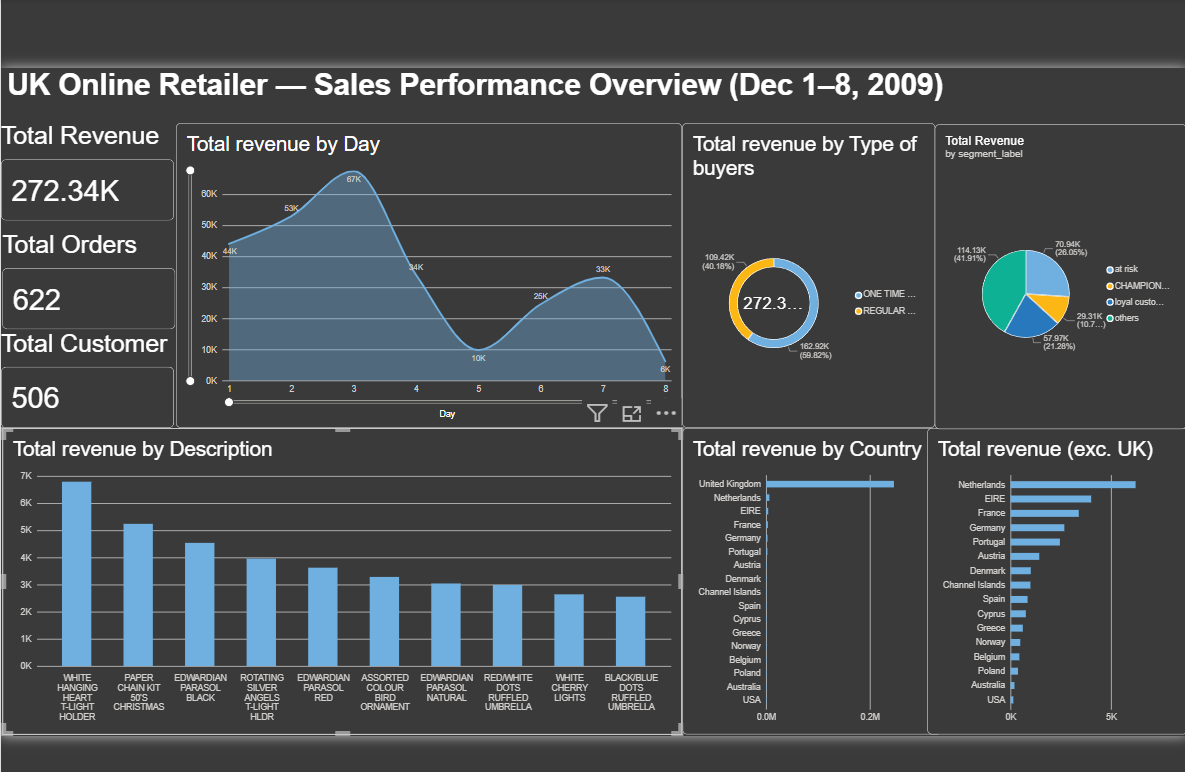

This screenshot's page, from the dashboard's own definition file:
{"tool":"powerbi","page":{"name":"Page 1","canvas":[1920,1080],"ordinal":0},"visuals":[{"type":"cardVisual","title":"Total Revenue","fields":{"Data":["online_retail order_items.Total Revenue"]},"box":[0,87.2,280.3,160],"z":0},{"type":"cardVisual","title":"Total Orders","fields":{"Data":["online_retail orders.Total_orders"]},"box":[2.1,263.7,280.3,160],"z":1000},{"type":"cardVisual","title":"Total Customer","fields":{"Data":["online_retail orders.Total_customer"]},"box":[0,423.5,280.3,160],"z":2000},{"type":"lineChart","title":"Total revenue by Day","fields":{"Category":["online_retail orders.InvoiceDate.Variation.Date Hierarchy.Day"],"Y":["online_retail order_items.Total Revenue"]},"box":[283.6,88.2,819.3,493.7],"z":3000},{"type":"columnChart","title":"Total revenue by Description","fields":{"Category":["online_retail products.Description"],"Y":["online_retail order_items.Total Revenue"]},"box":[2.1,583.4,1100.3,496.2],"z":4000},{"type":"barChart","title":"Total revenue by Country","fields":{"Category":["online_retail customers.Country"],"Y":["online_retail order_items.Total Revenue"]},"box":[1102.4,583.4,421,496],"z":5000},{"type":"barChart","title":"Total revenue (exc. UK)","fields":{"Category":["online_retail customers.Country"],"Y":["online_retail order_items.Total Revenue"]},"box":[1499,583.4,421.5,496.2],"z":6000},{"type":"donutChart","title":"Total revenue by Type of buyers","fields":{"Category":["online_retail customers.Type of buyers"],"Y":["online_retail order_items.Total Revenue"]},"box":[1102.8,88.2,409.6,493.7],"z":7000},{"type":"textbox","box":[10.4,0,1910,110],"z":8000},{"type":"pieChart","fields":{"Series":["online_retail rfm_segments.segment_label"],"Y":["online_retail order_items.Total Revenue"]},"box":[1512.5,90.3,408,493.7],"z":8001}]}

Visuals, with their boxes in screenshot pixels (x1, y1, x2, y2):
"Total Revenue" cardVisual: rect(9, 124, 180, 221)
"Total Orders" cardVisual: rect(11, 231, 181, 329)
"Total Customer" cardVisual: rect(9, 329, 180, 426)
"Total revenue by Day" lineChart: rect(182, 125, 681, 425)
"Total revenue by Description" columnChart: rect(11, 426, 680, 728)
"Total revenue by Country" barChart: rect(680, 426, 936, 728)
"Total revenue (exc. UK)" barChart: rect(922, 426, 1178, 728)
"Total revenue by Type of buyers" donutChart: rect(680, 125, 930, 425)
textbox: rect(16, 71, 1178, 138)
pieChart - online_retail rfm_segments.segment_label x online_retail order_items.Total Revenue: rect(930, 126, 1178, 426)
